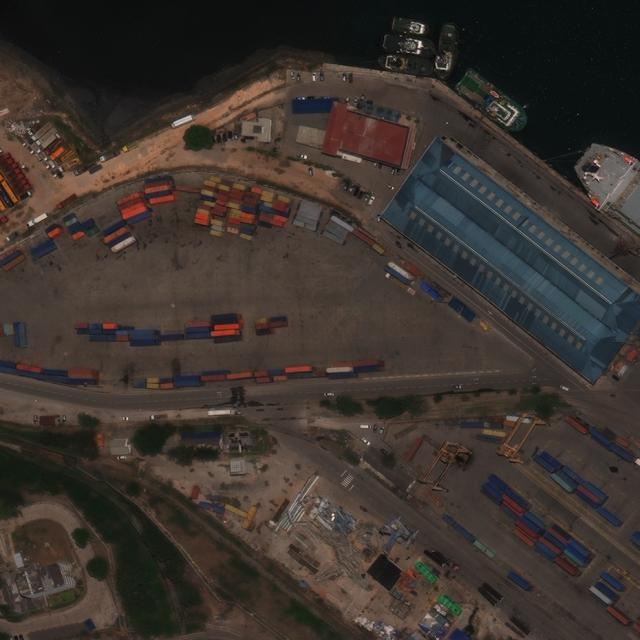Container Ship: (574, 140, 639, 229)
Other Ship: (451, 67, 533, 139), (431, 21, 462, 82), (376, 52, 438, 80), (380, 33, 438, 61), (391, 17, 432, 39)
